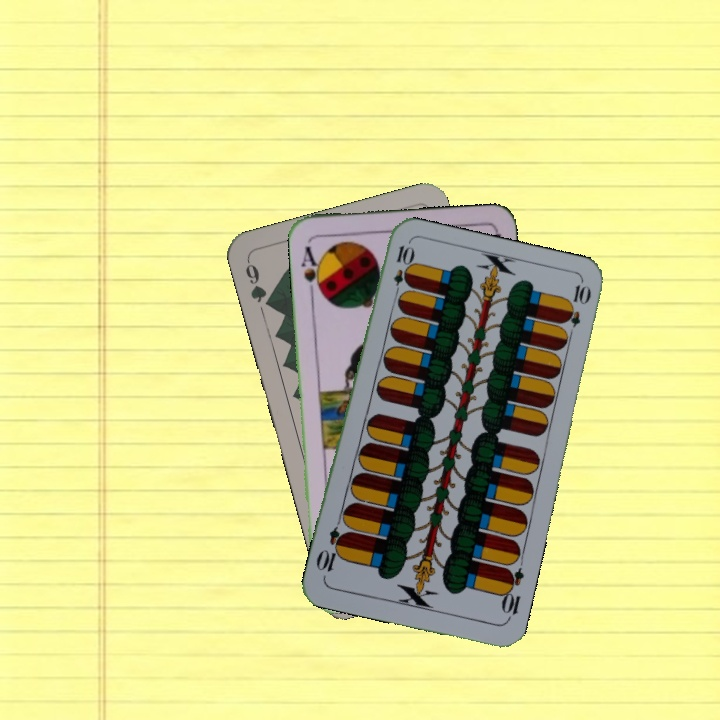E10: (497, 564, 527, 623), (389, 241, 414, 300)
G9: (241, 256, 276, 311)
SA: (297, 242, 325, 298)
